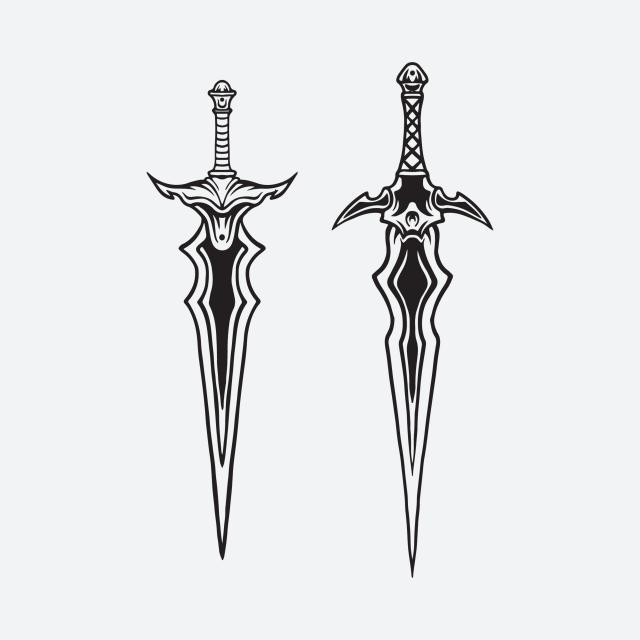sword: (329, 54, 487, 578), (137, 68, 291, 563)
